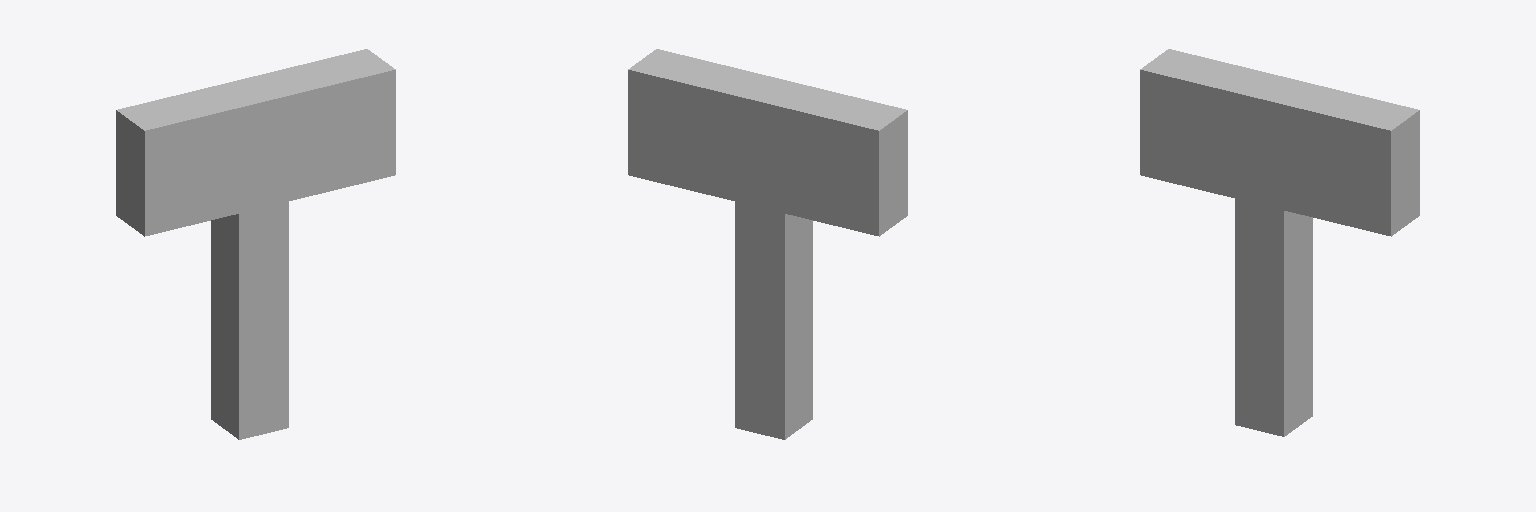
File: titleFont.obj
3 views of the same model, side by side, from view 1: azimuth 30°, elevation 25°; view 2: azimuth 150°, elevation 25°; view 3: azimuth 330°, elevation 25° (orthographic).
Visible parts, largest first — view 1: Cube; view 2: Cube; view 3: Cube.
Part boxes in pixels (x1,y1,x2,y2): Cube: (116,49,395,439); Cube: (628,49,907,439); Cube: (1140,49,1419,436).
Size of the model in its own units: 10.15 by 12.84 by 2.